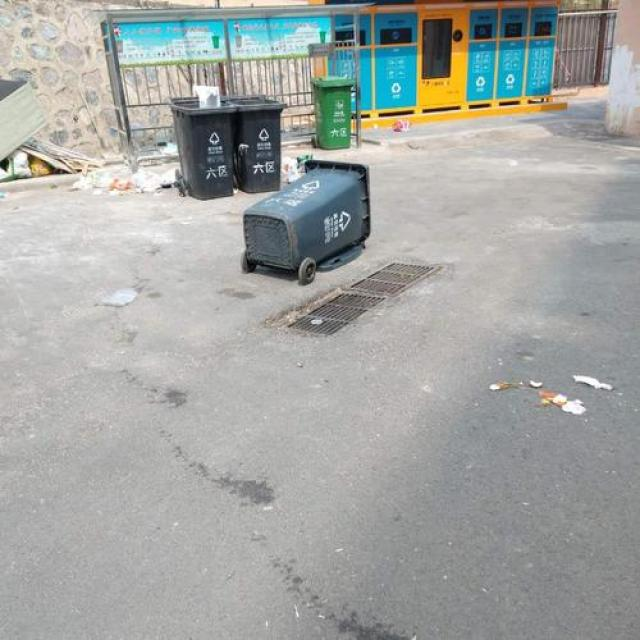garbage: (486, 367, 616, 420), (70, 164, 182, 196)
garbage_bin: (228, 94, 285, 190), (311, 76, 353, 147)
overflow: (168, 81, 236, 201)
